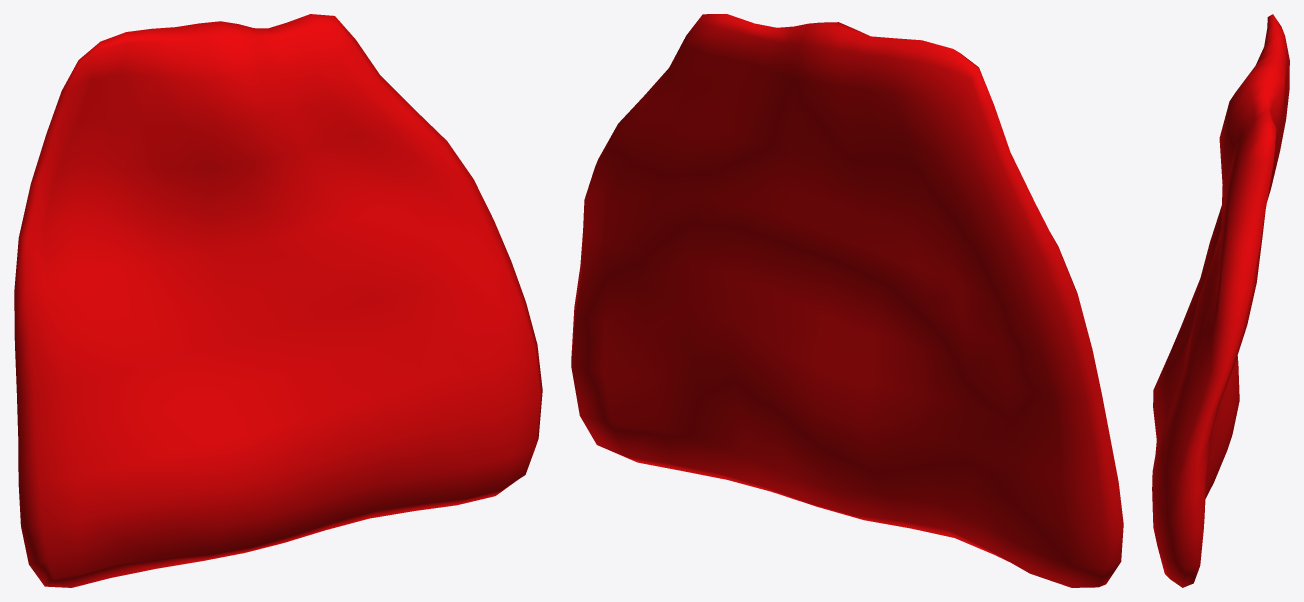
The model's file is tissu.fbx.
3 renders of one model, left to right at view 1: azimuth 30°, elevation 25°; view 2: azimuth 150°, elevation 25°; view 3: azimuth 270°, elevation 25°, orthographic. The views are drawn at different scales.
Visible parts, largest first — view 1: Plane; view 2: Plane; view 3: Plane.
Part boxes in pixels (left/top/right/bottom): Plane: left=14, top=14, right=542, bottom=587; Plane: left=571, top=14, right=1123, bottom=587; Plane: left=1152, top=14, right=1289, bottom=587.
Size of the model in its own units: 456 by 428 by 124.
